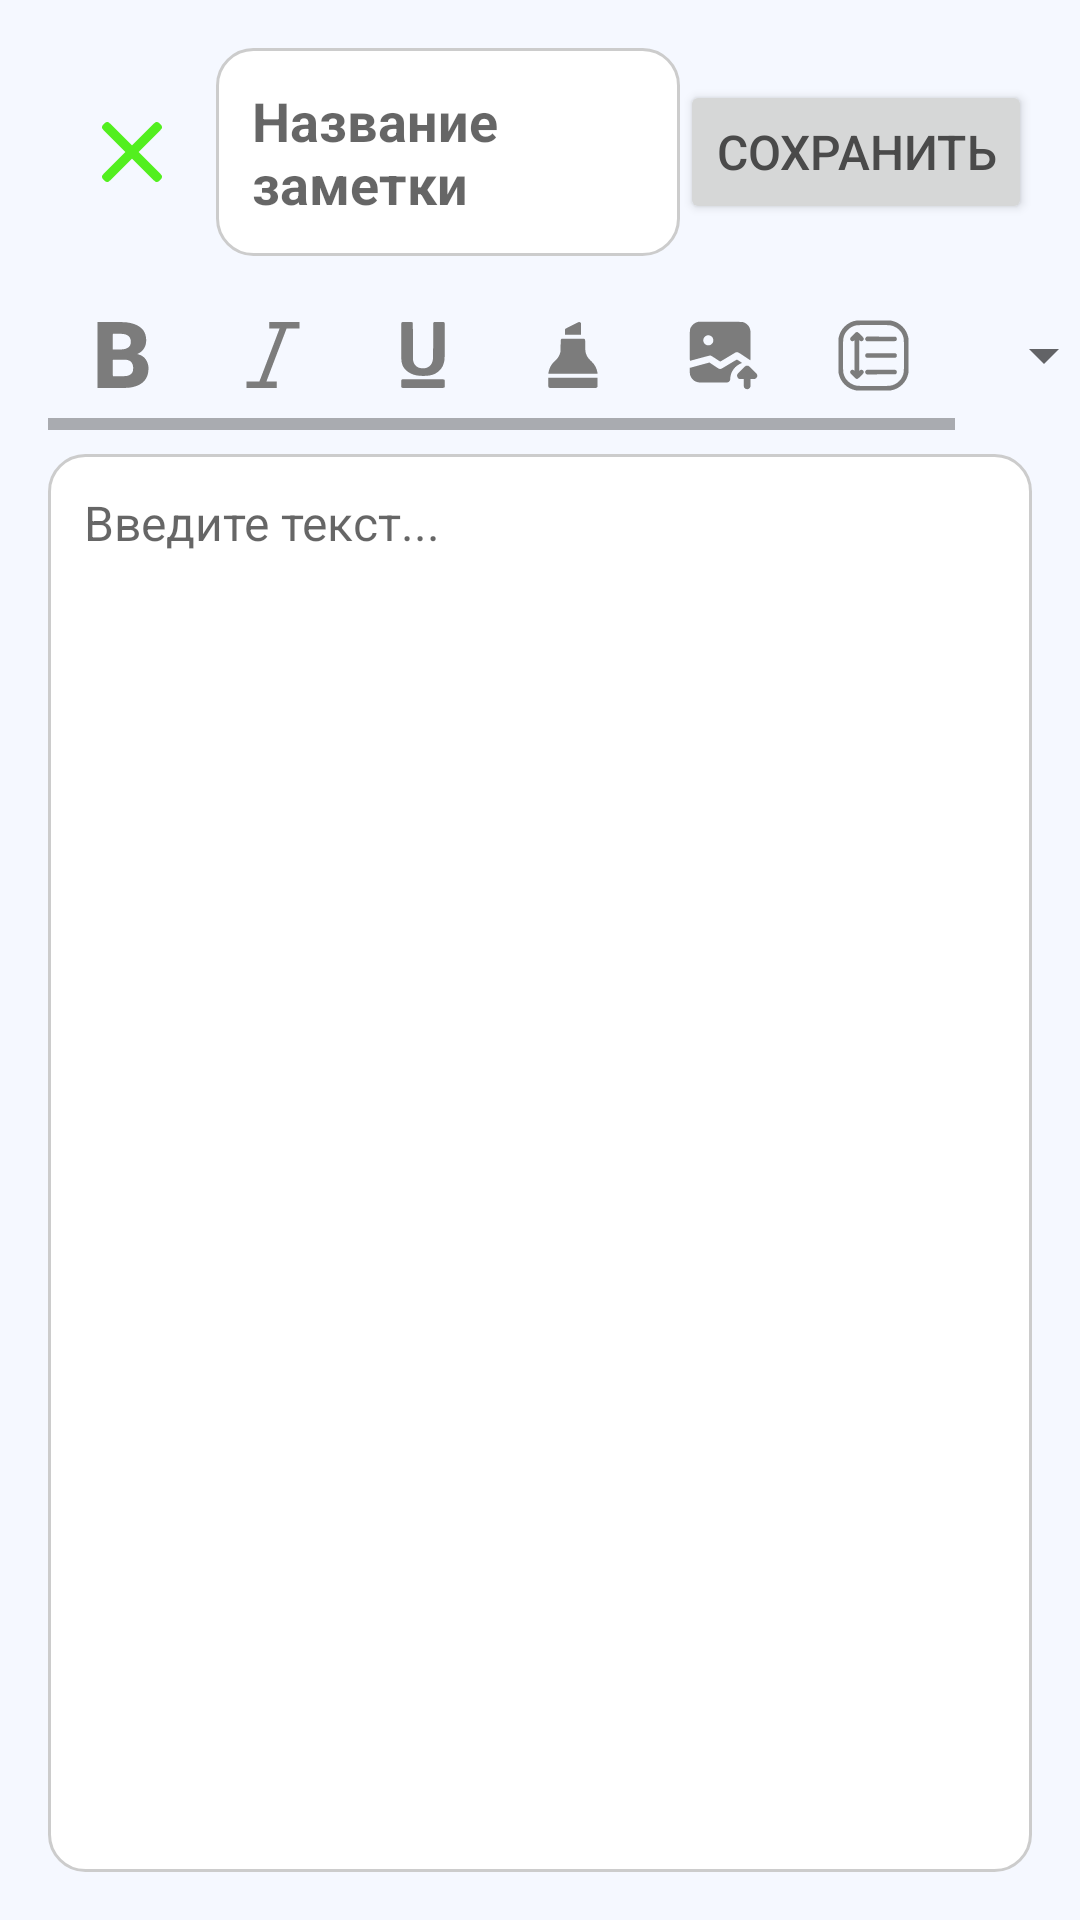

Screen size 1080 × 1920. Icon name, then its box in pixels as (x1, y1, x2, y2):
Вставить картинку: (689, 321, 758, 390)
Выделить: (548, 322, 598, 388)
Выравнивание: (838, 320, 909, 391)
Жирный: (97, 322, 149, 388)
